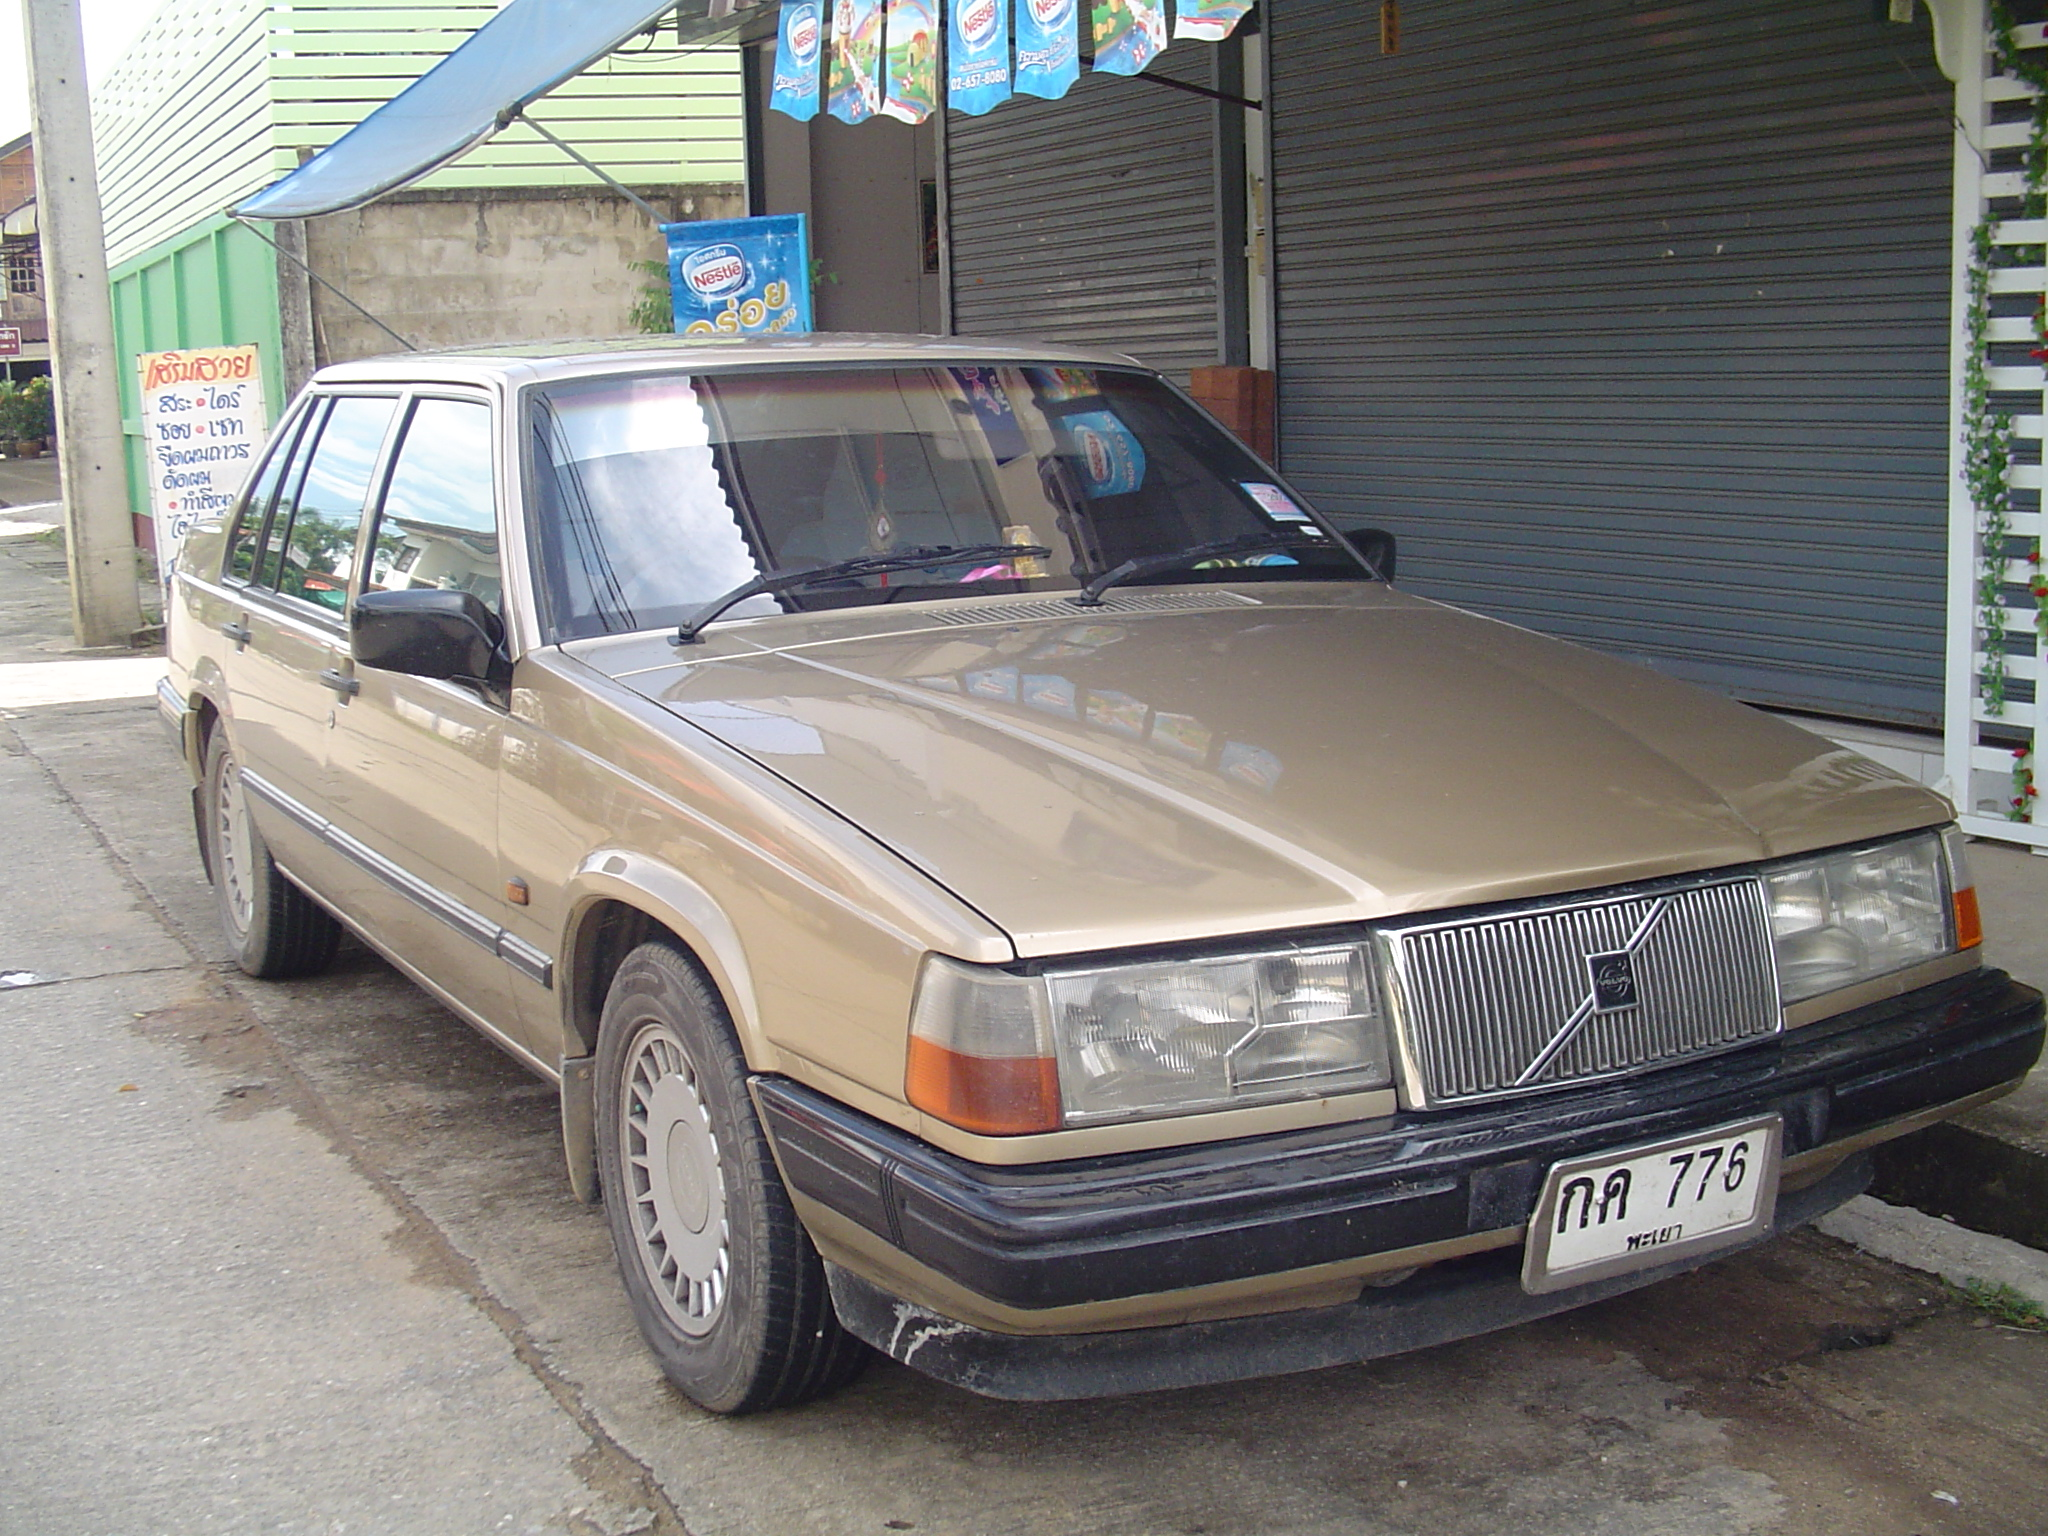sedan: (144, 315, 2037, 1418)
